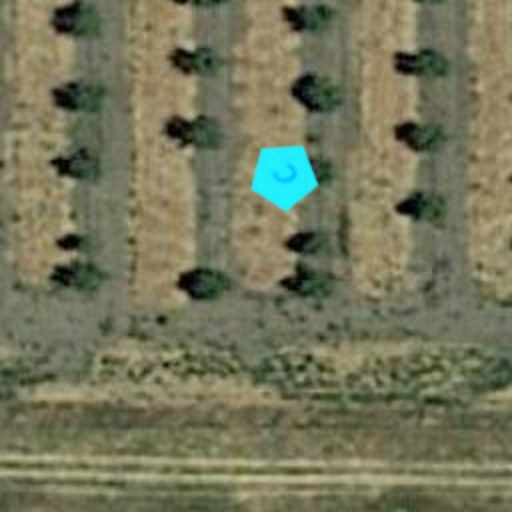pentagon: (232, 124, 336, 228)
